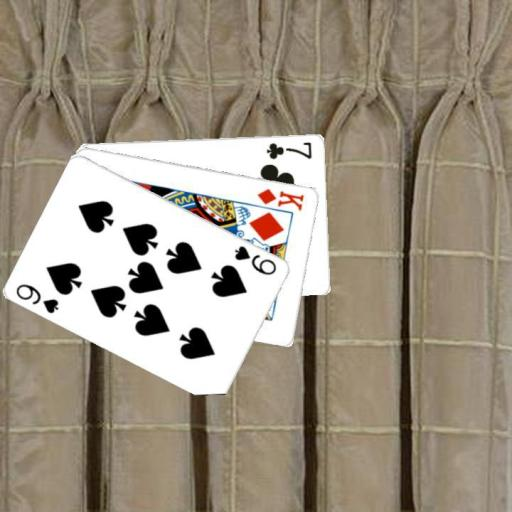7C: (264, 138, 314, 160)
9S: (13, 280, 61, 315), (231, 243, 279, 277)
KD: (254, 185, 306, 212)
